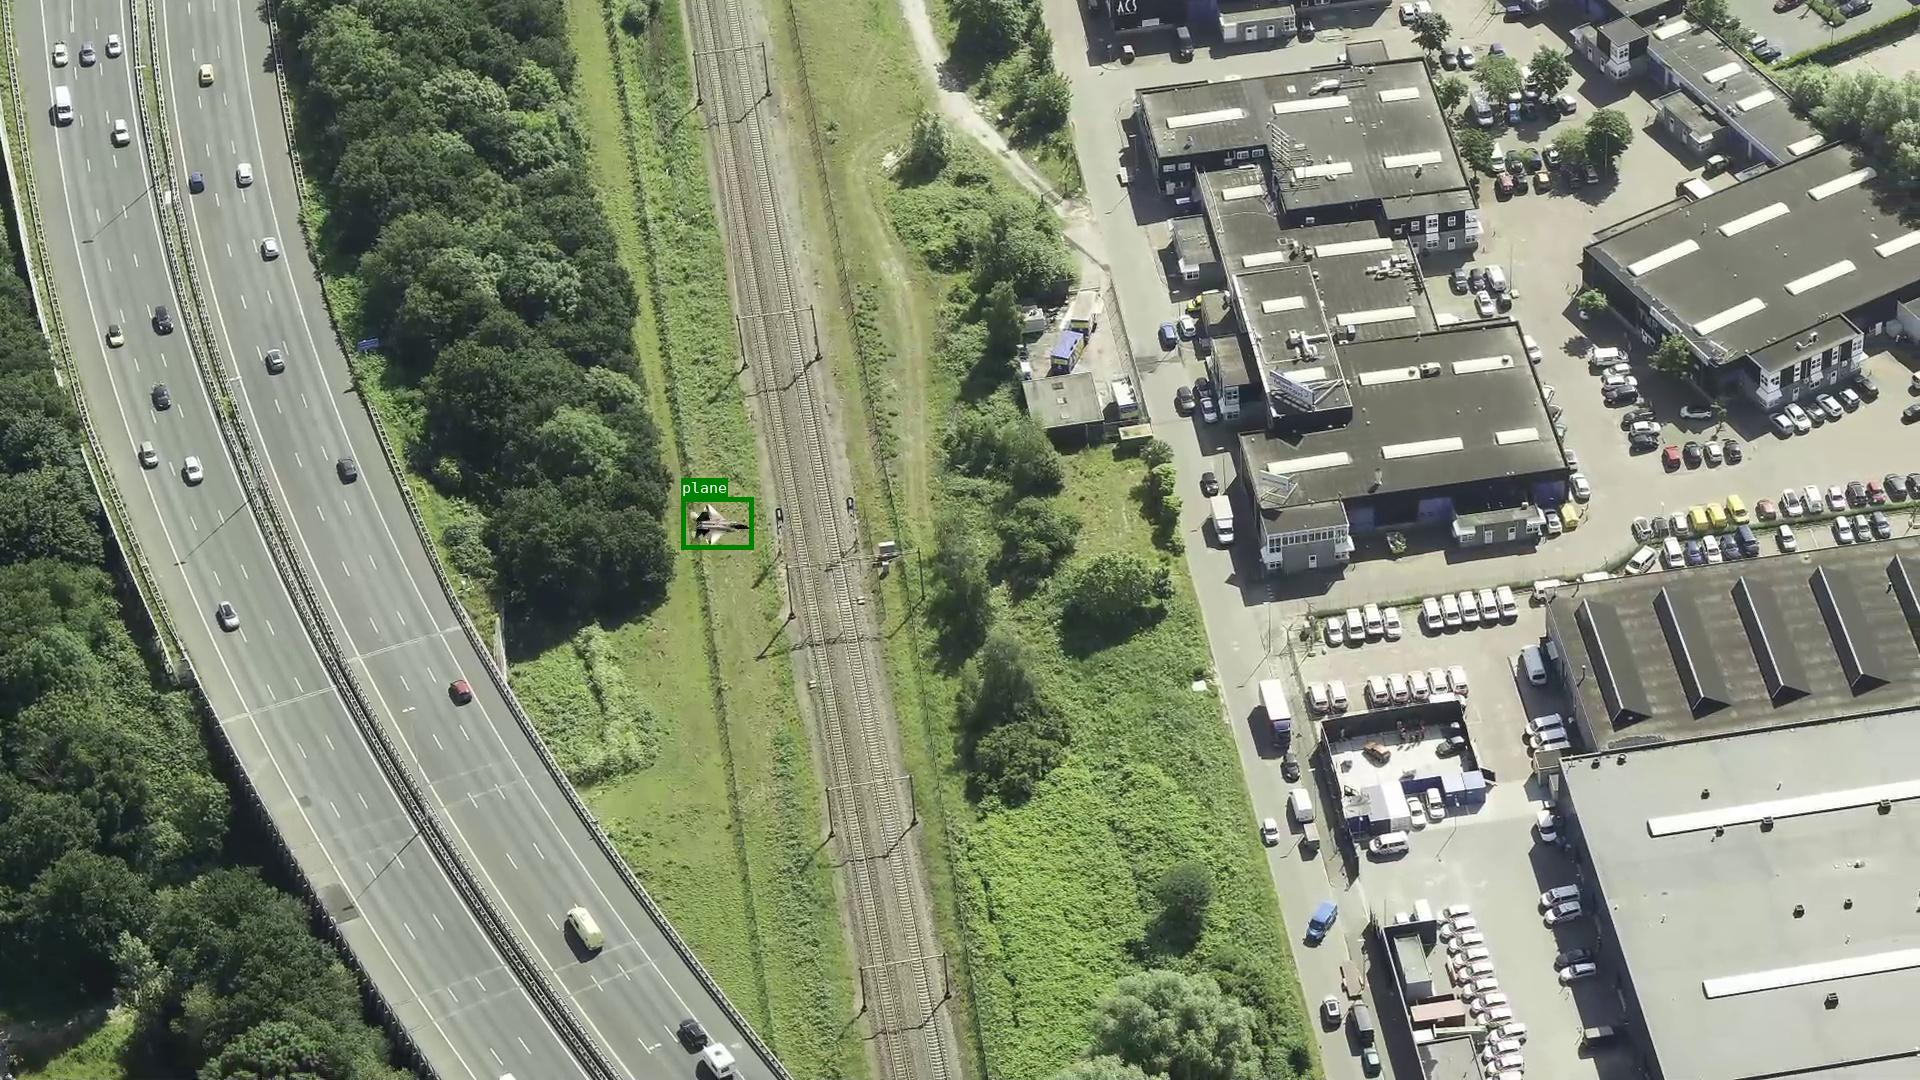plane: (680, 497, 753, 549)
